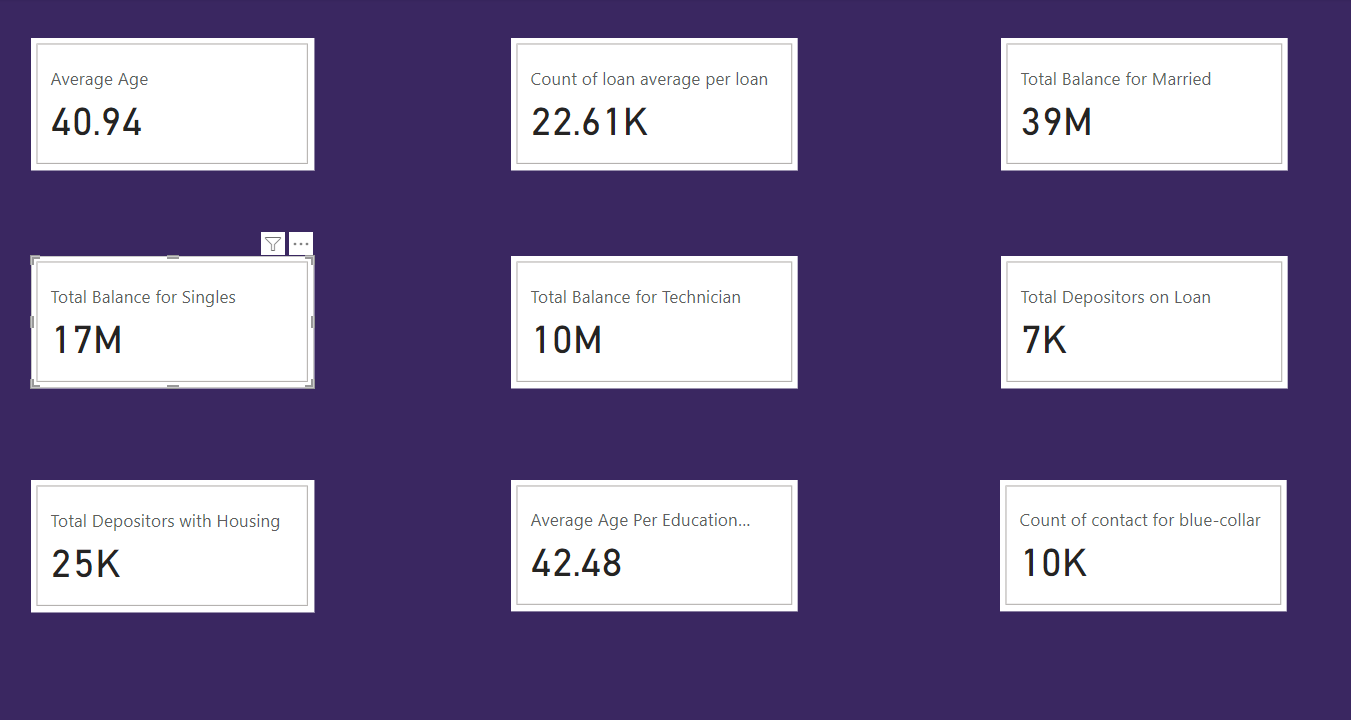

What the dashboard file says about the page in this screenshot:
{"tool":"powerbi","page":{"name":"Measures","canvas":[1280,720],"ordinal":0},"visuals":[{"type":"cardVisual","fields":{"Data":["Measures Table.Average Age"]},"box":[37,37,260.7,121.5],"z":0},{"type":"cardVisual","fields":{"Data":["Measures Table.Count of loan average per loan"]},"box":[479.1,37,264.2,121.5],"z":1000},{"type":"cardVisual","fields":{"Data":["Measures Table.Total Balance for Singles"]},"box":[37,237.8,260.7,121.5],"z":2000},{"type":"cardVisual","fields":{"Data":["Measures Table.Total Balance for Married"]},"box":[929.8,37,264.1,121.9],"z":3000},{"type":"cardVisual","fields":{"Data":["Measures Table.Total Balance for Technician"]},"box":[478.8,238,264.2,121.8],"z":4000},{"type":"cardVisual","fields":{"Data":["Measures Table.Total Depositors on Loan"]},"box":[929.8,237.8,264.1,121.9],"z":5000},{"type":"cardVisual","fields":{"Data":["Measures Table.Total Depositors with Housing"]},"box":[37,443.9,260.7,121.5],"z":6000},{"type":"cardVisual","fields":{"Data":["Measures Table.Average Age Per Education Category"]},"box":[478.8,444.2,264.2,120.9],"z":7000},{"type":"cardVisual","fields":{"Data":["Measures Table.Count of contact for blue-collar"]},"box":[929.5,444.2,264.2,120.9],"z":8000}]}

Visuals, with their boxes on the page's 1280x720 design canvas (x1, y1, x2, y2). These are canvas units, not pixel positions in the 1351x720 screenshot, which may show the page scaled, cropped or inside an application window:
cardVisual - Measures Table.Average Age: detection(37, 37, 298, 158)
cardVisual - Measures Table.Count of loan average per loan: detection(479, 37, 743, 158)
cardVisual - Measures Table.Total Balance for Singles: detection(37, 238, 298, 359)
cardVisual - Measures Table.Total Balance for Married: detection(930, 37, 1194, 159)
cardVisual - Measures Table.Total Balance for Technician: detection(479, 238, 743, 360)
cardVisual - Measures Table.Total Depositors on Loan: detection(930, 238, 1194, 360)
cardVisual - Measures Table.Total Depositors with Housing: detection(37, 444, 298, 565)
cardVisual - Measures Table.Average Age Per Education Category: detection(479, 444, 743, 565)
cardVisual - Measures Table.Count of contact for blue-collar: detection(930, 444, 1194, 565)
